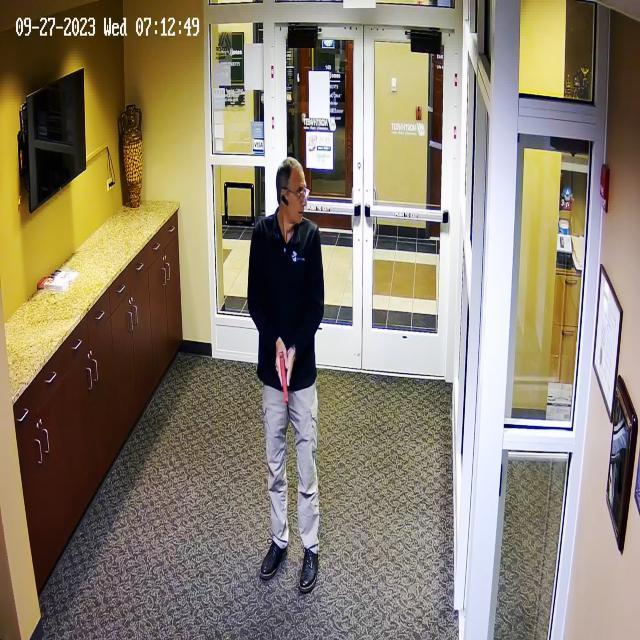Gun: (270, 344, 304, 411)
